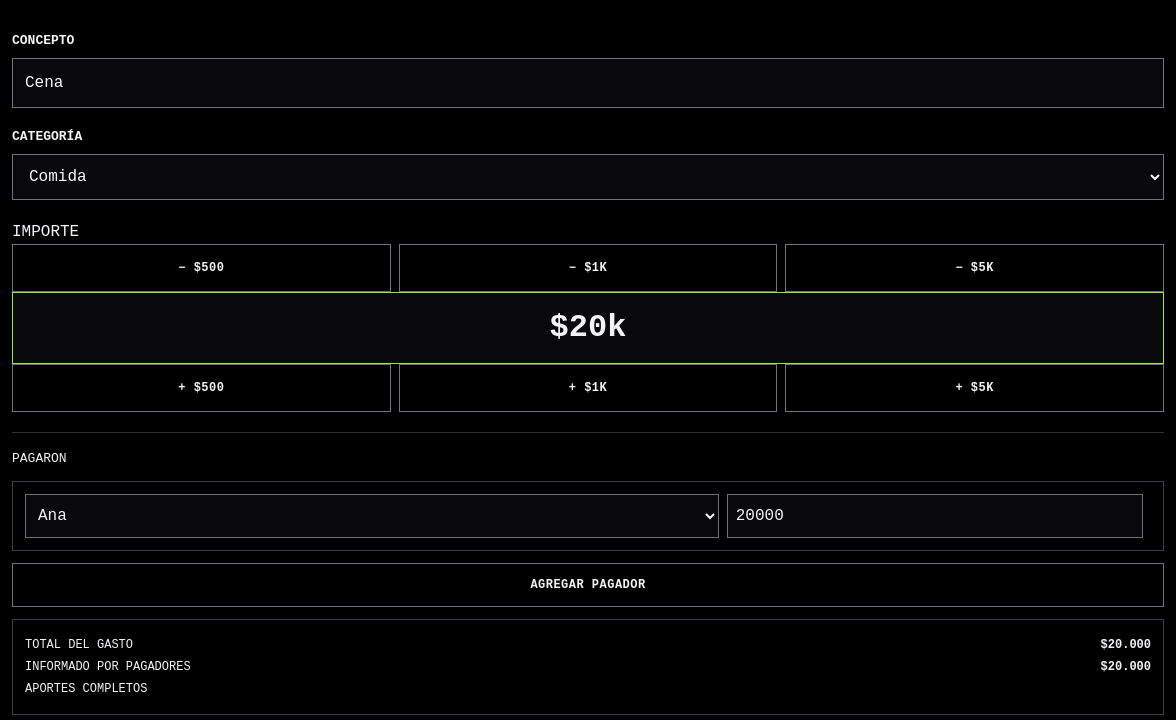
Scenario: ExpenseForm multipayer interactions › preserves manual input 1750
Click the button named "Editar importe".
click(588, 328)  # box [12,292,1164,364]
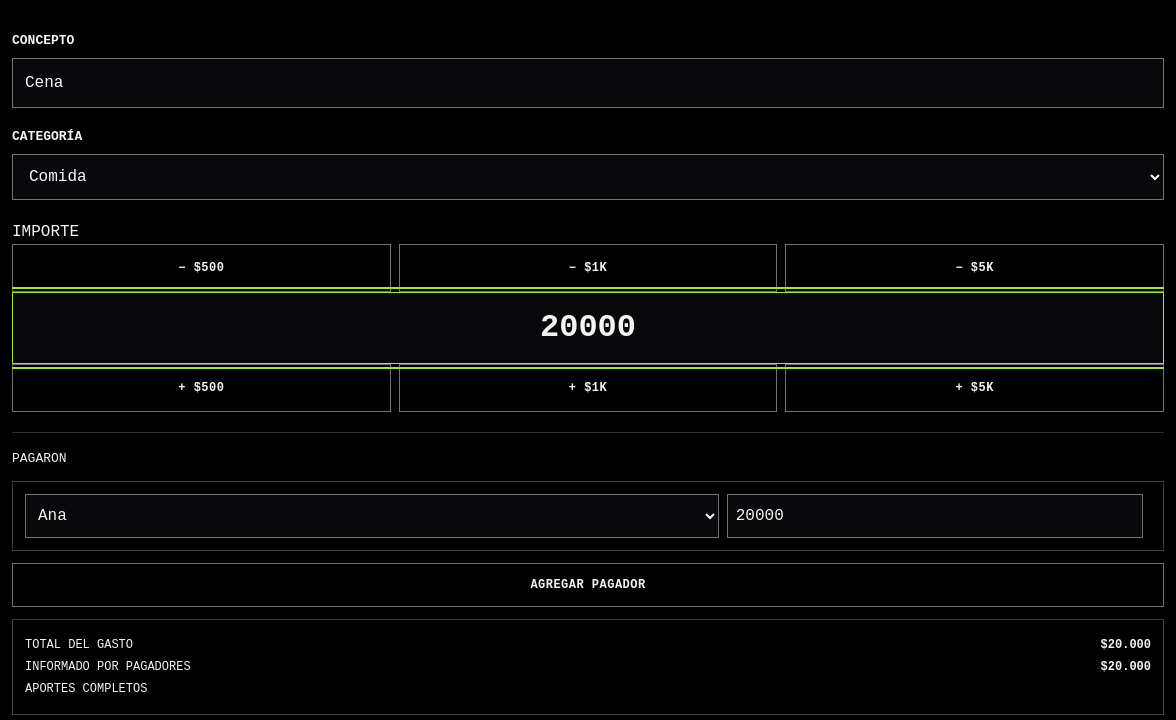
Replace the text in the field named "Importe del gasto" with "1750" at (588, 328), box [12,292,1164,364]
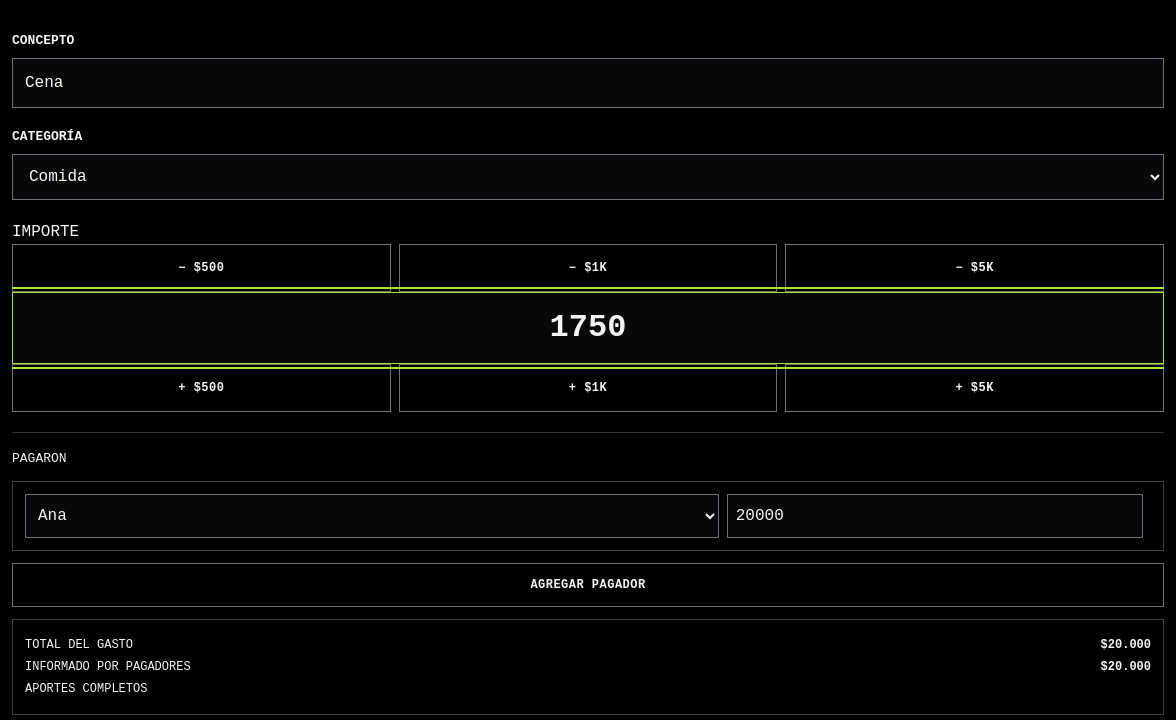
Leave the field named "Importe del gasto", box [12,292,1164,364]
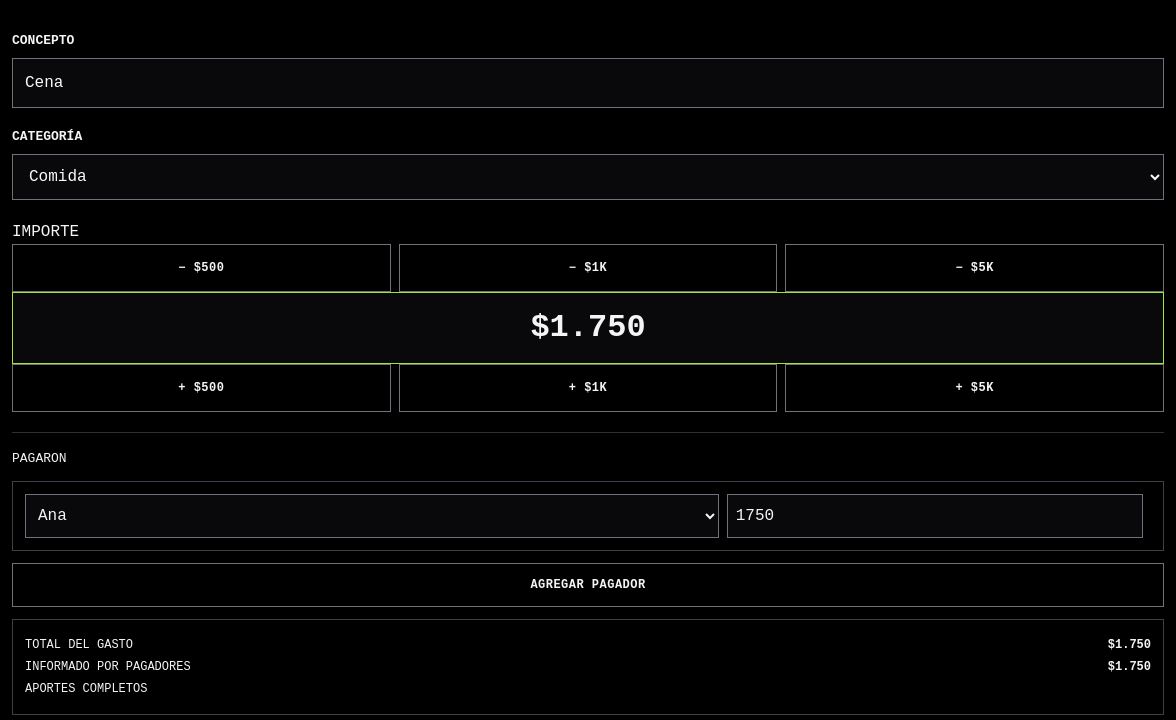
Result: the button named "Editar importe $1.750" is shown at [12,292,1164,364]
